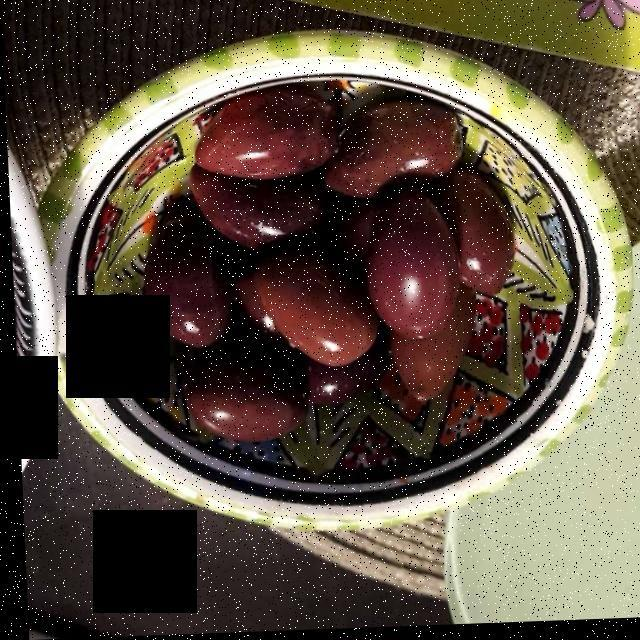black-olives: (143, 93, 507, 445)
